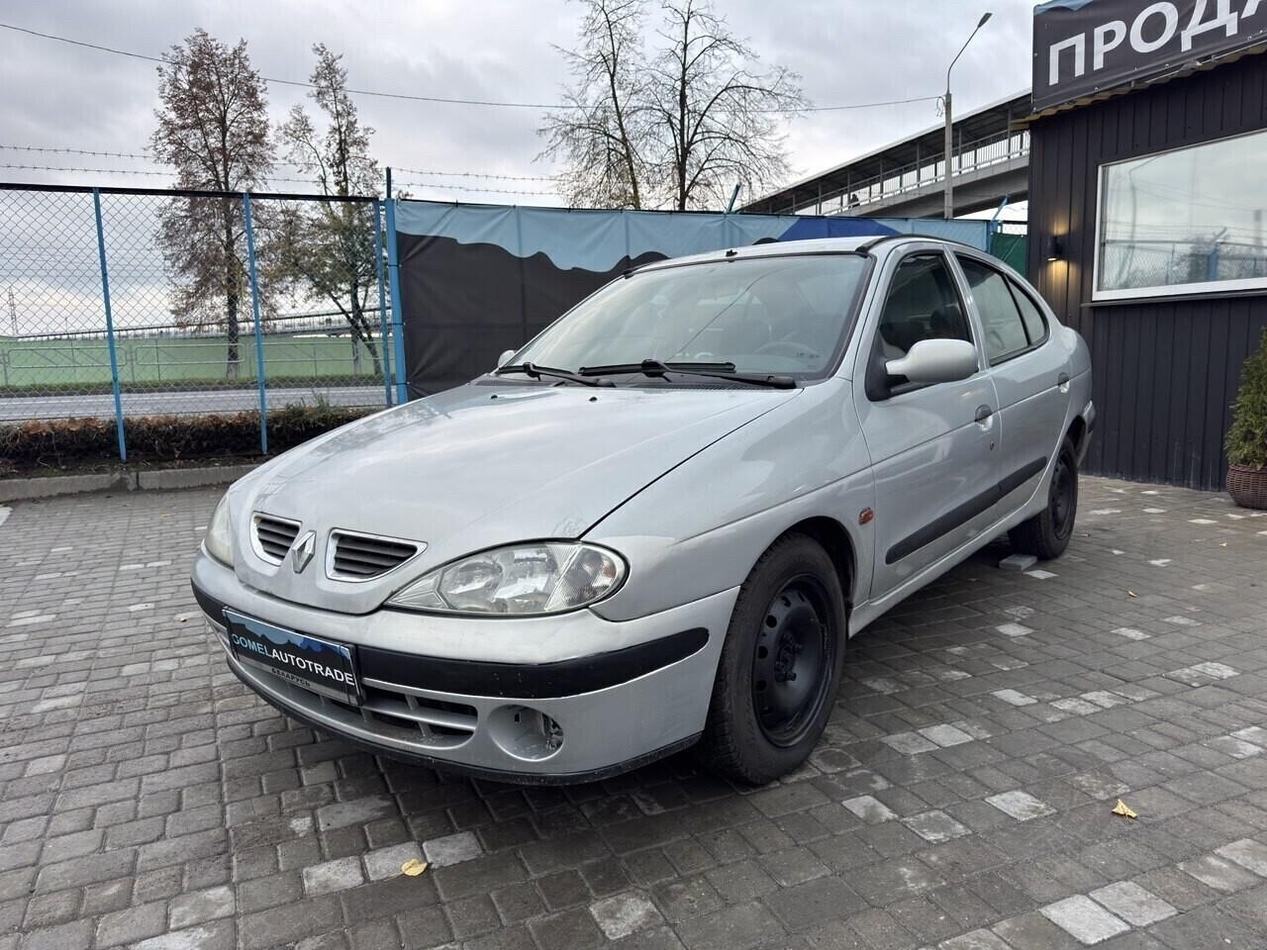Megane_1999-2003: (191, 235, 1095, 787)
